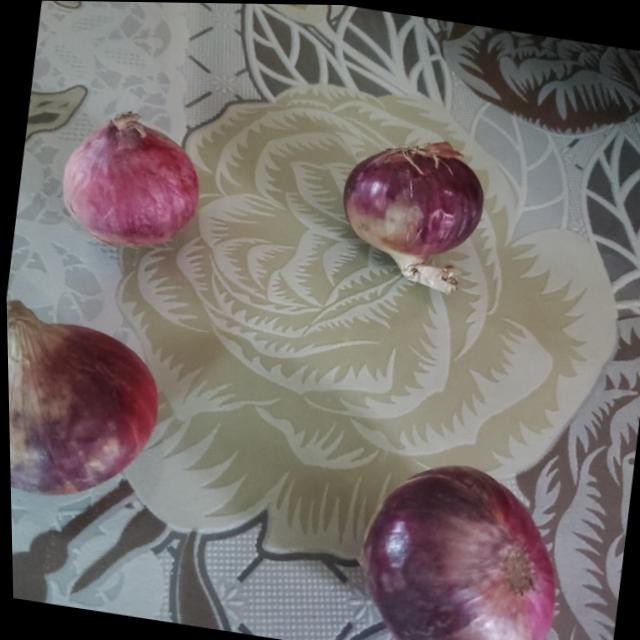onion: (341, 453, 570, 640), (5, 298, 169, 507), (327, 123, 494, 305), (53, 111, 207, 258)
